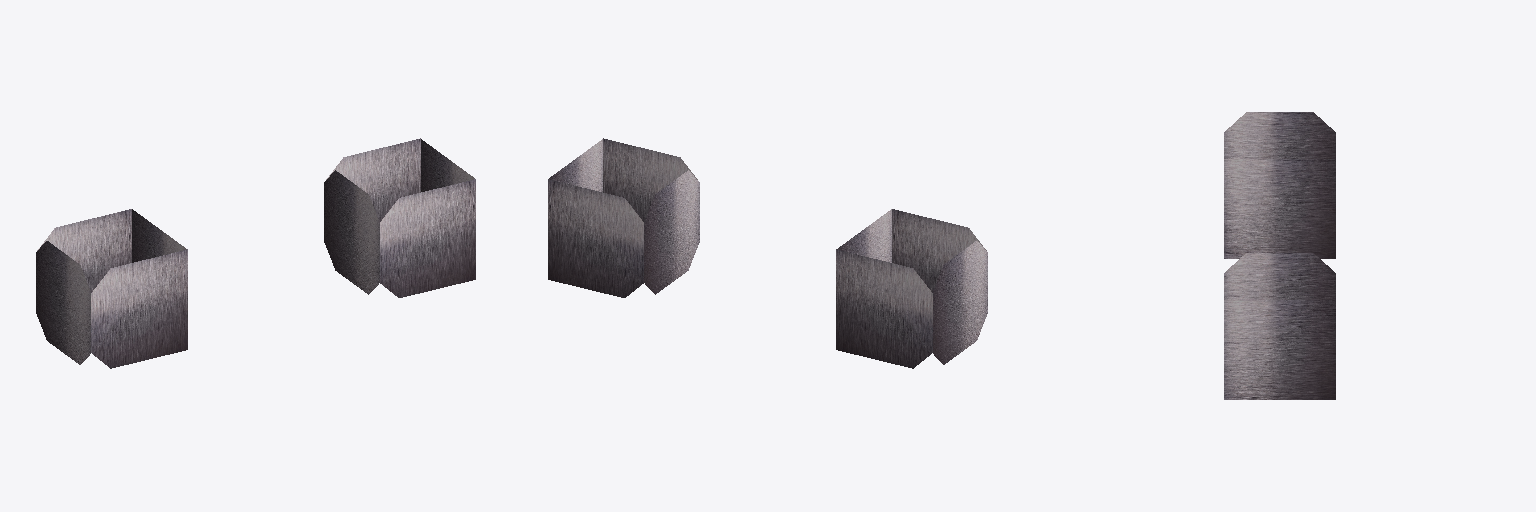
The picture shows the model from 3 angles: view 1: azimuth 30°, elevation 25°; view 2: azimuth 150°, elevation 25°; view 3: azimuth 270°, elevation 25°; orthographic projection.
Bounding box in the file's own units: 4 × 1 × 1.
1 materials, 1 textured.